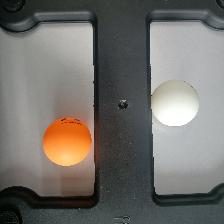WhiteBall: (150, 78, 200, 126)
YellowBall: (41, 116, 92, 166)
